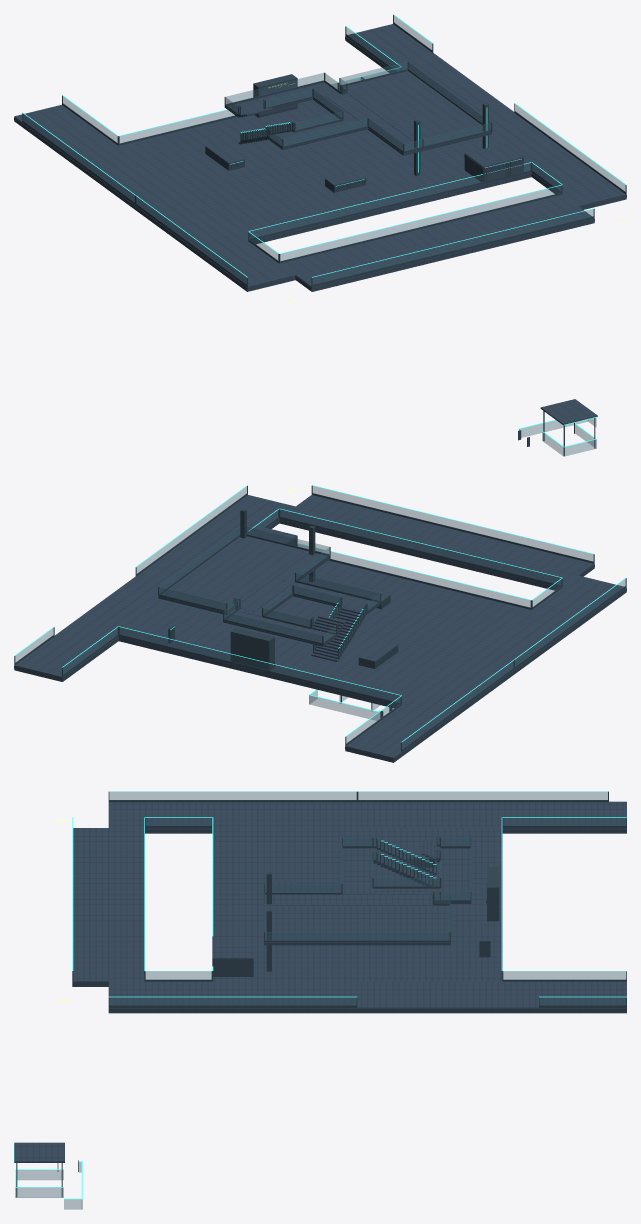
Rendered from east-loggia-portal-2.glb.
The picture shows the model from 3 angles, top to bottom: view 1: azimuth 30°, elevation 25°; view 2: azimuth 150°, elevation 25°; view 3: azimuth 270°, elevation 25°; orthographic projection. The views are drawn at different scales.
Parts seen in each view (by area): view 1: east-loggia-portal-2::service-yard, east-loggia-portal-2::V2-BR-M2, east-loggia-portal-2::gallery-W-52-300, east-loggia-portal-2::gallery-W-52-326, east-loggia-portal-2::service-mezzanine-55.2-opening-0, east-loggia-portal-2::gallery-E-52-326, east-loggia-portal-2::gallery-E-52-300, east-loggia-portal-2::public-guard-0170, east-loggia-portal-2::public-guard-0171, east-loggia-portal-2::public-guard-0178, east-loggia-portal-2::service-jump-shelf, east-loggia-portal-2::service-mezzanine-55.2-opening-1 (+15 smaller); view 2: east-loggia-portal-2::service-yard, east-loggia-portal-2::V2-BR-M2, east-loggia-portal-2::gallery-W-52-300, east-loggia-portal-2::gallery-E-52-300, east-loggia-portal-2::service-mezzanine-55.2-opening-0, east-loggia-portal-2::gallery-W-52-326, east-loggia-portal-2::gallery-E-52-326, east-loggia-portal-2::public-guard-0171, east-loggia-portal-2::public-guard-0177, east-loggia-portal-2::public-guard-0170, east-loggia-portal-2::public-guard-0178, east-loggia-portal-2::detail-service-utility-bank (+21 smaller); view 3: east-loggia-portal-2::service-yard, east-loggia-portal-2::V2-BR-M2, east-loggia-portal-2::gallery-E-52-300, east-loggia-portal-2::service-mezzanine-55.2-opening-0, east-loggia-portal-2::gallery-E-52-326, east-loggia-portal-2::gallery-W-52-300, east-loggia-portal-2::gallery-W-52-326, east-loggia-portal-2::public-guard-0052, east-loggia-portal-2::public-guard-0054, east-loggia-portal-2::public-guard-0075, east-loggia-portal-2::public-guard-0204, east-loggia-portal-2::service-mezzanine-55.2-opening-1 (+14 smaller).
Boxes of the visible parts, x1,y1,x2,y2 form: east-loggia-portal-2::service-yard: [119, 100, 531, 244]; east-loggia-portal-2::V2-BR-M2: [280, 194, 594, 291]; east-loggia-portal-2::gallery-W-52-300: [14, 104, 183, 209]; east-loggia-portal-2::gallery-W-52-326: [135, 193, 295, 291]; east-loggia-portal-2::service-mezzanine-55.2-opening-0: [339, 71, 491, 150]; east-loggia-portal-2::gallery-E-52-326: [480, 112, 626, 209]; east-loggia-portal-2::gallery-E-52-300: [345, 24, 514, 120]; east-loggia-portal-2::public-guard-0170: [279, 185, 562, 263]; east-loggia-portal-2::public-guard-0171: [311, 209, 594, 286]; east-loggia-portal-2::public-guard-0178: [249, 162, 531, 240]; east-loggia-portal-2::service-jump-shelf: [464, 143, 523, 183]; east-loggia-portal-2::service-mezzanine-55.2-opening-1: [328, 93, 422, 155]; east-loggia-portal-2::service-yard: [118, 560, 530, 708]; east-loggia-portal-2::V2-BR-M2: [279, 495, 594, 590]; east-loggia-portal-2::gallery-W-52-300: [345, 657, 514, 762]; east-loggia-portal-2::gallery-E-52-300: [14, 576, 170, 681]; east-loggia-portal-2::service-mezzanine-55.2-opening-0: [158, 536, 308, 614]; east-loggia-portal-2::gallery-W-52-326: [467, 575, 626, 673]; east-loggia-portal-2::gallery-E-52-326: [136, 495, 295, 584]; east-loggia-portal-2::public-guard-0171: [311, 485, 594, 563]; east-loggia-portal-2::public-guard-0177: [118, 627, 400, 704]; east-loggia-portal-2::public-guard-0170: [279, 509, 561, 586]; east-loggia-portal-2::public-guard-0178: [297, 544, 531, 609]; east-loggia-portal-2::detail-service-utility-bank: [230, 627, 274, 670]; east-loggia-portal-2::service-yard: [213, 828, 502, 981]; east-loggia-portal-2::V2-BR-M2: [72, 828, 144, 986]; east-loggia-portal-2::gallery-E-52-300: [357, 981, 626, 1013]; east-loggia-portal-2::service-mezzanine-55.2-opening-0: [264, 905, 450, 945]; east-loggia-portal-2::gallery-E-52-326: [108, 981, 357, 1013]; east-loggia-portal-2::gallery-W-52-300: [357, 801, 626, 833]; east-loggia-portal-2::gallery-W-52-326: [108, 802, 357, 833]; east-loggia-portal-2::public-guard-0052: [357, 791, 608, 802]; east-loggia-portal-2::public-guard-0054: [108, 791, 357, 802]; east-loggia-portal-2::public-guard-0075: [108, 997, 357, 1007]; east-loggia-portal-2::public-guard-0204: [264, 932, 449, 942]; east-loggia-portal-2::service-mezzanine-55.2-opening-1: [264, 894, 433, 905].
Size of the model in its own units: 47.1 by 30.8 by 59.13.
Materials: 5 (1 with a texture image).
